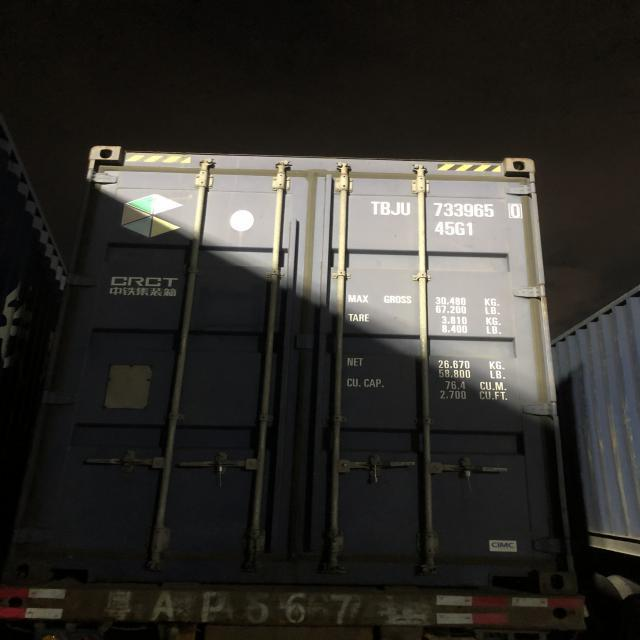ISO: (436, 222, 474, 238)
container_number: (372, 200, 524, 220)
